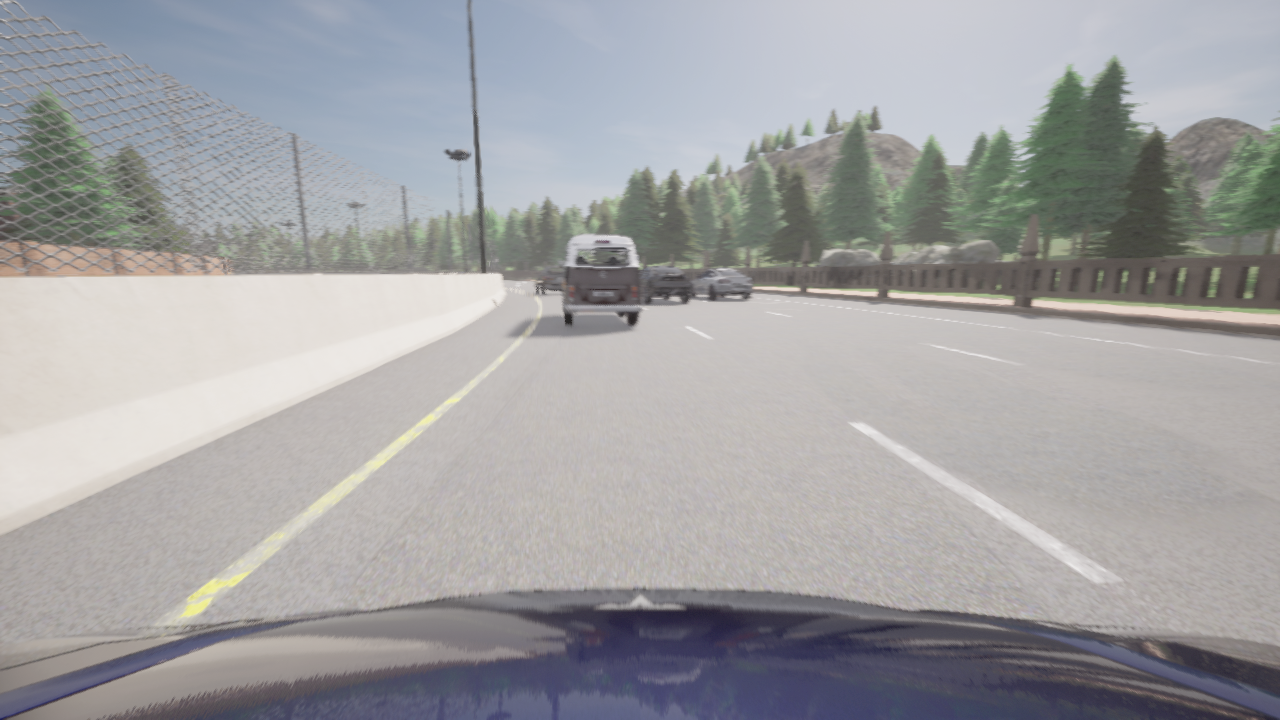cyclist: (0, 588, 1279, 719), (558, 234, 641, 325), (691, 268, 752, 299), (640, 266, 690, 302), (535, 265, 563, 294)
